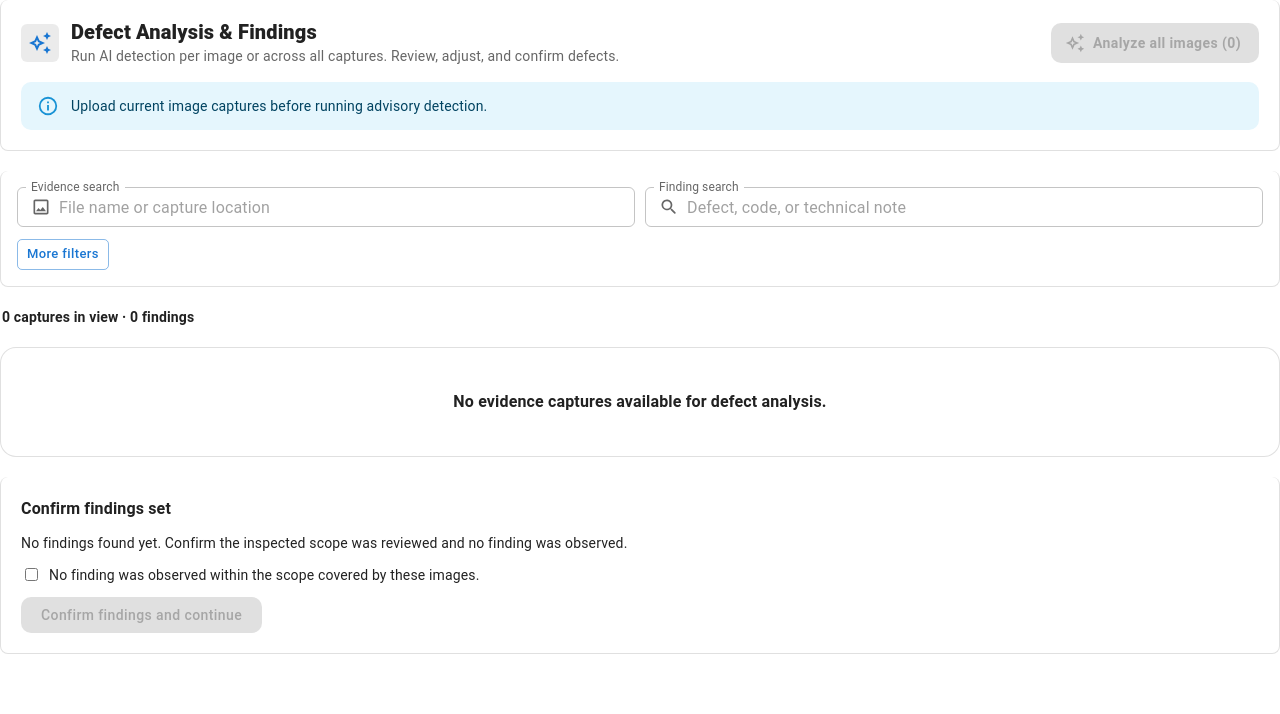
Test: InspectionFindingsPage › keeps advanced finding filters behind a disclosure and allows them to be revealed
Check: the dropdown labelled "Finding status" is not shown
Click the button "More filters" at (63,254), box [17,239,109,270]
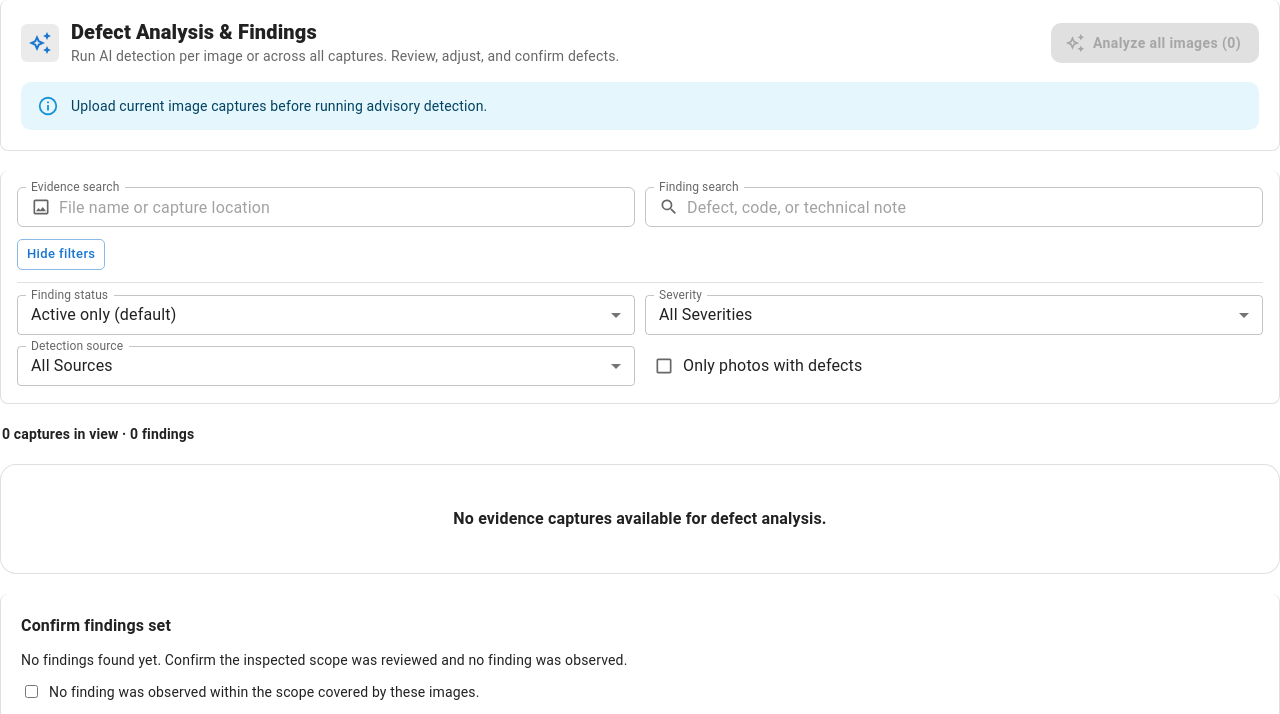
Check: the dropdown named "Finding status" is shown, box [31,305,176,324]
Check: the dropdown named "Severity" is shown, box [659,305,752,324]
Check: the dropdown named "Detection source" is shown, box [31,356,113,375]
